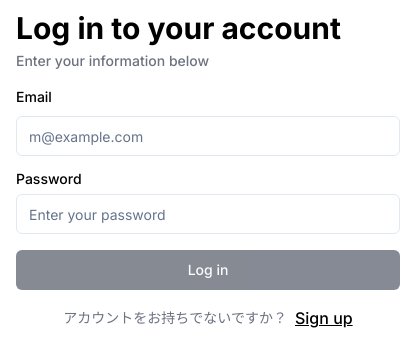
Test case: AuthForm › 送信ボタンが正しく無効/有効になること
Expected: the button "Log in" is disabled, [16, 250, 400, 290]
Type "test@example.com" into the field labelled "Email" at (208, 136), box [16, 116, 400, 156]
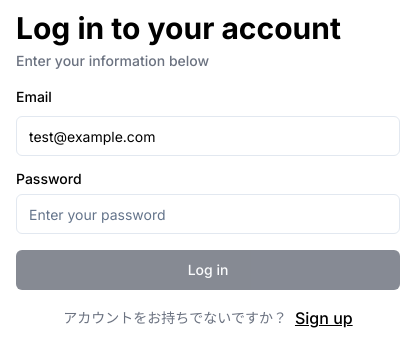
Expected: the button "Log in" is disabled, [16, 250, 400, 290]
Type "password123" into the password field labelled "Password" at (208, 214), box [16, 194, 400, 234]
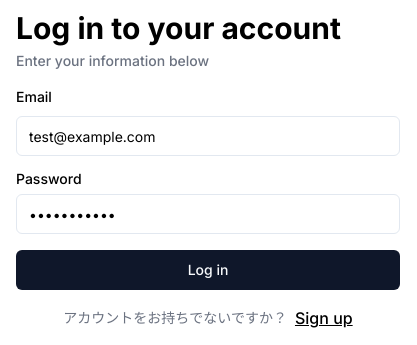
Expected: the button "Log in" is enabled, [16, 250, 400, 290]
